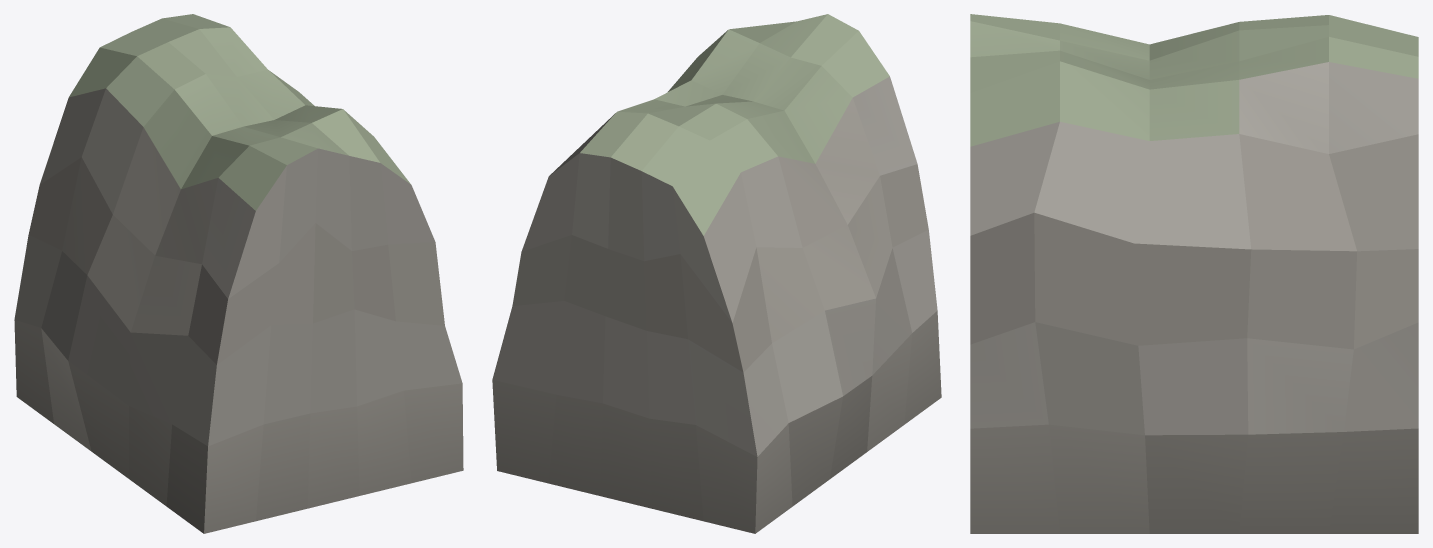
File: roca_recta.glb
The picture shows the model from 3 angles, left to right: view 1: azimuth 30°, elevation 25°; view 2: azimuth 150°, elevation 25°; view 3: azimuth 270°, elevation 25°; orthographic projection. The views are drawn at different scales.
Parts seen in each view (by area): view 1: propforge-cuartos-roca_recta; view 2: propforge-cuartos-roca_recta; view 3: propforge-cuartos-roca_recta.
Part boxes in pixels (bbox=[...]): propforge-cuartos-roca_recta: bbox=[14, 14, 463, 533]; propforge-cuartos-roca_recta: bbox=[492, 14, 941, 533]; propforge-cuartos-roca_recta: bbox=[970, 14, 1418, 533].
Size of the model in its own units: 0.8889 by 1.06 by 1.
